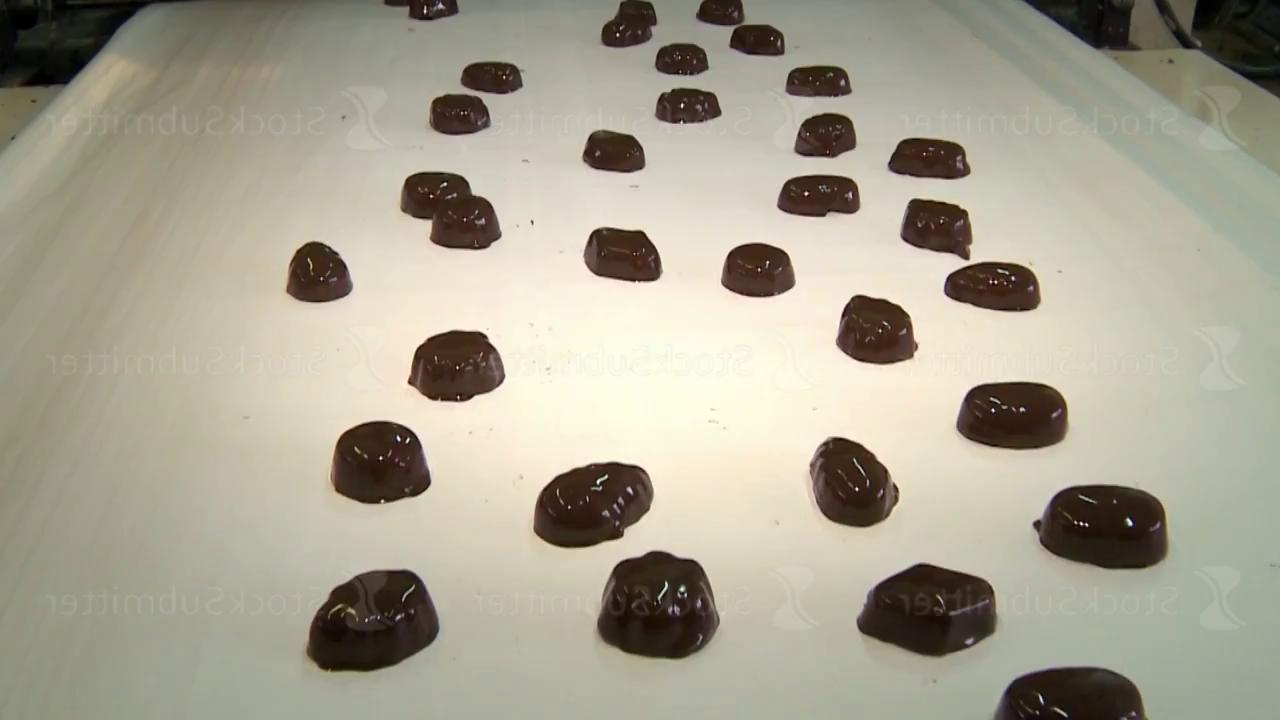chocolate: (307, 568, 440, 672), (598, 550, 720, 658), (857, 562, 997, 656), (1034, 483, 1168, 569), (533, 461, 654, 547), (331, 420, 431, 504), (994, 665, 1148, 719), (810, 436, 899, 527), (957, 381, 1068, 449), (408, 329, 506, 402), (837, 294, 918, 363), (945, 261, 1041, 311), (901, 198, 973, 259), (584, 226, 662, 281), (286, 241, 353, 302), (722, 242, 795, 297), (430, 194, 502, 249), (777, 174, 860, 216), (889, 137, 971, 178), (401, 171, 471, 218), (795, 112, 856, 157), (583, 129, 645, 172), (602, 1, 657, 47), (430, 93, 491, 134), (656, 87, 722, 123), (786, 65, 852, 97), (461, 61, 523, 93), (656, 42, 709, 75), (730, 24, 785, 55), (386, 0, 459, 20), (697, 0, 745, 25)
